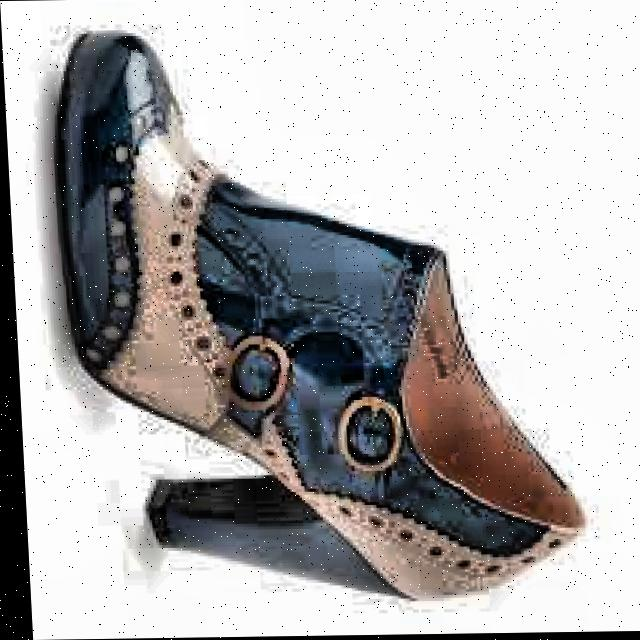shoes: (47, 19, 595, 606)
